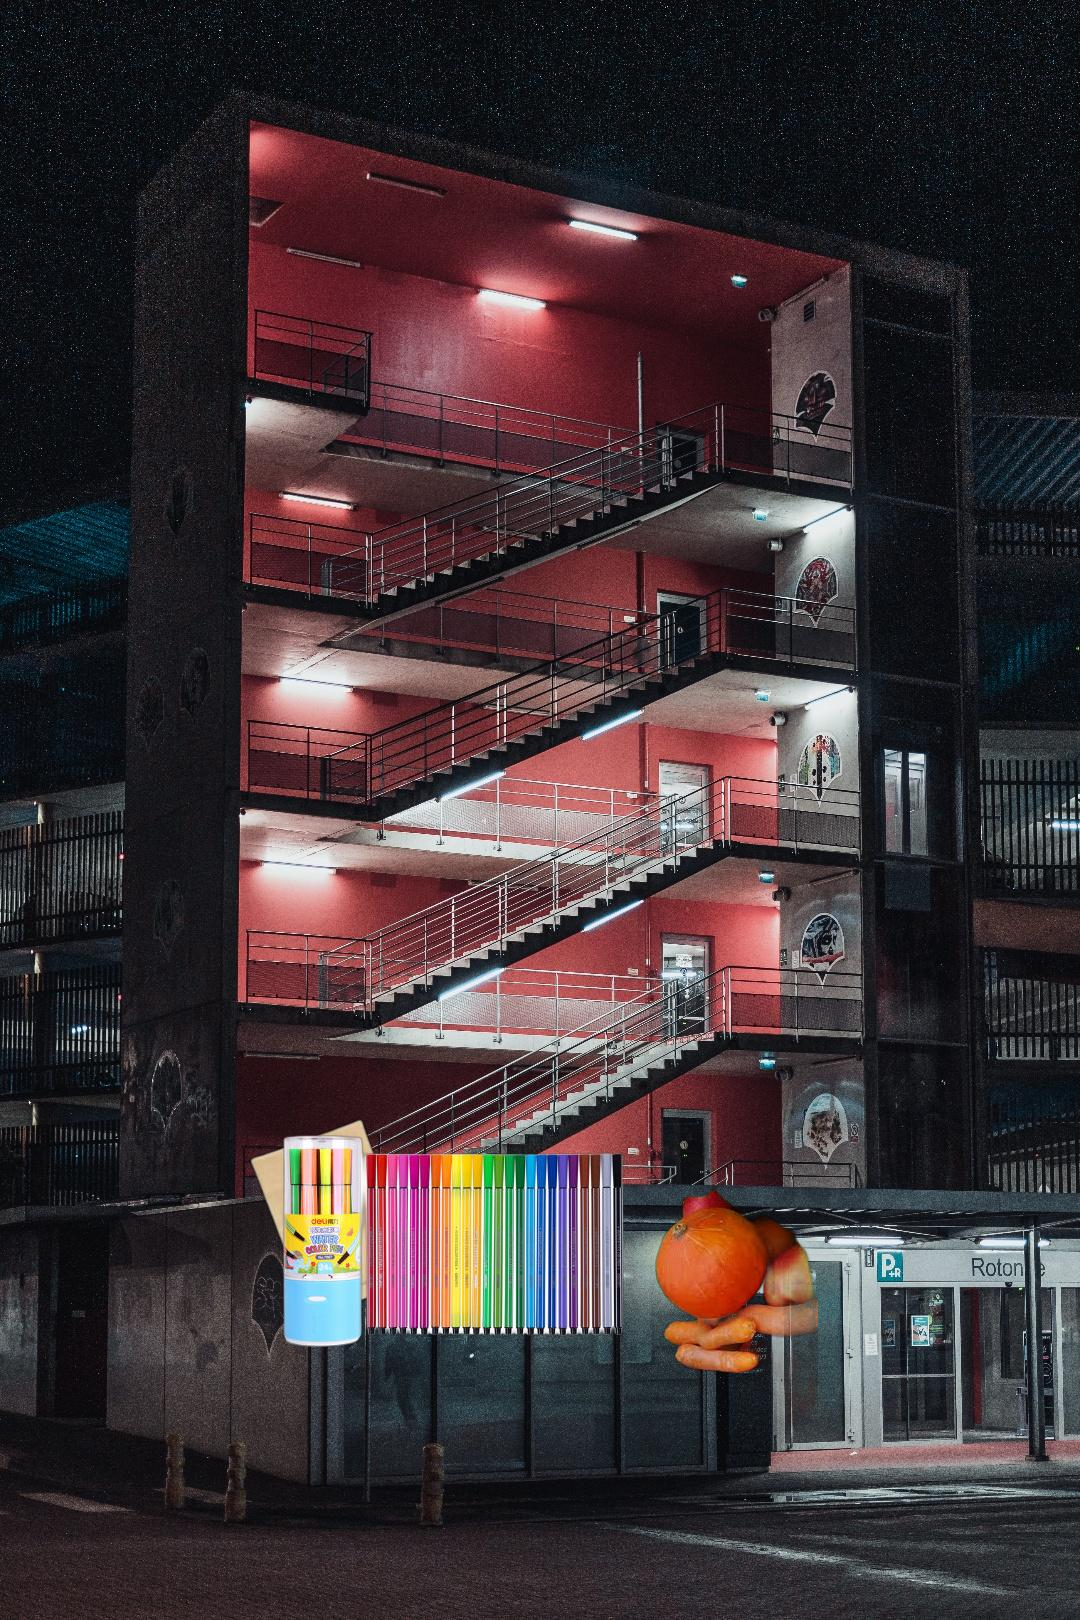biological: (655, 1158, 818, 1460)
paper-bag: (135, 1116, 425, 1361)
penholder: (280, 1132, 628, 1349)
